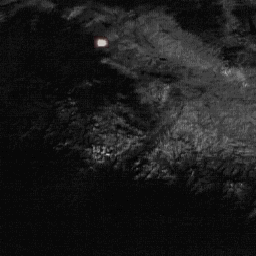Target: (95, 38, 109, 48)
